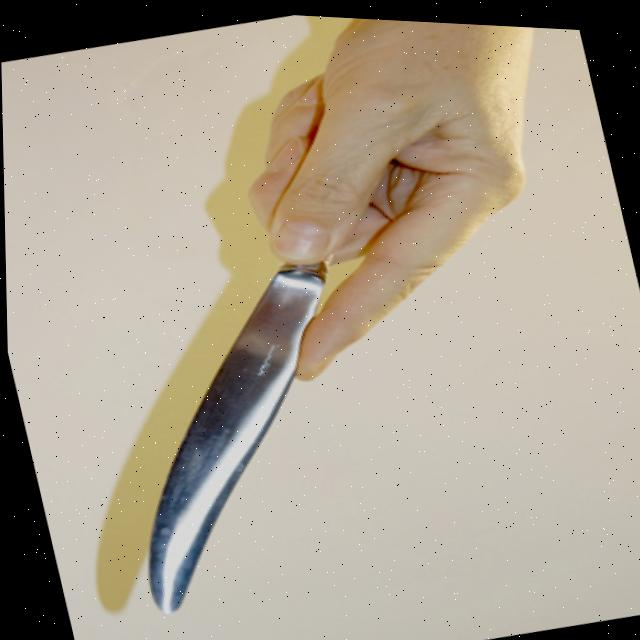knife: (23, 238, 405, 639)
